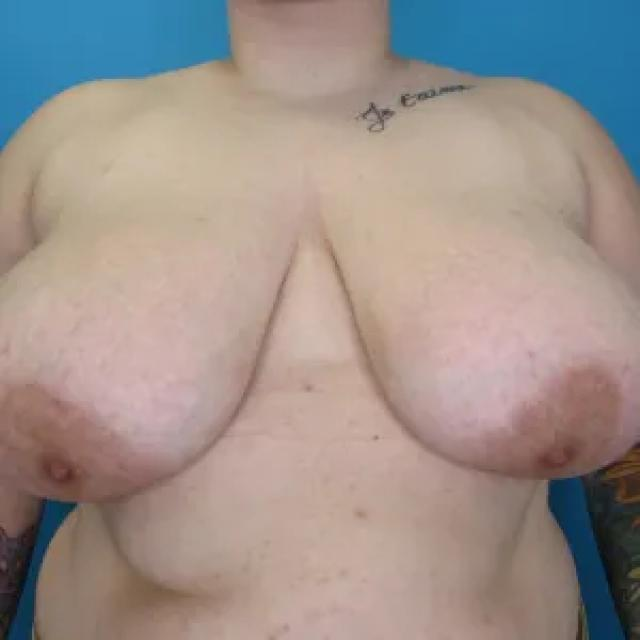Seno ileso: (0, 173, 310, 526), (313, 168, 640, 499)
